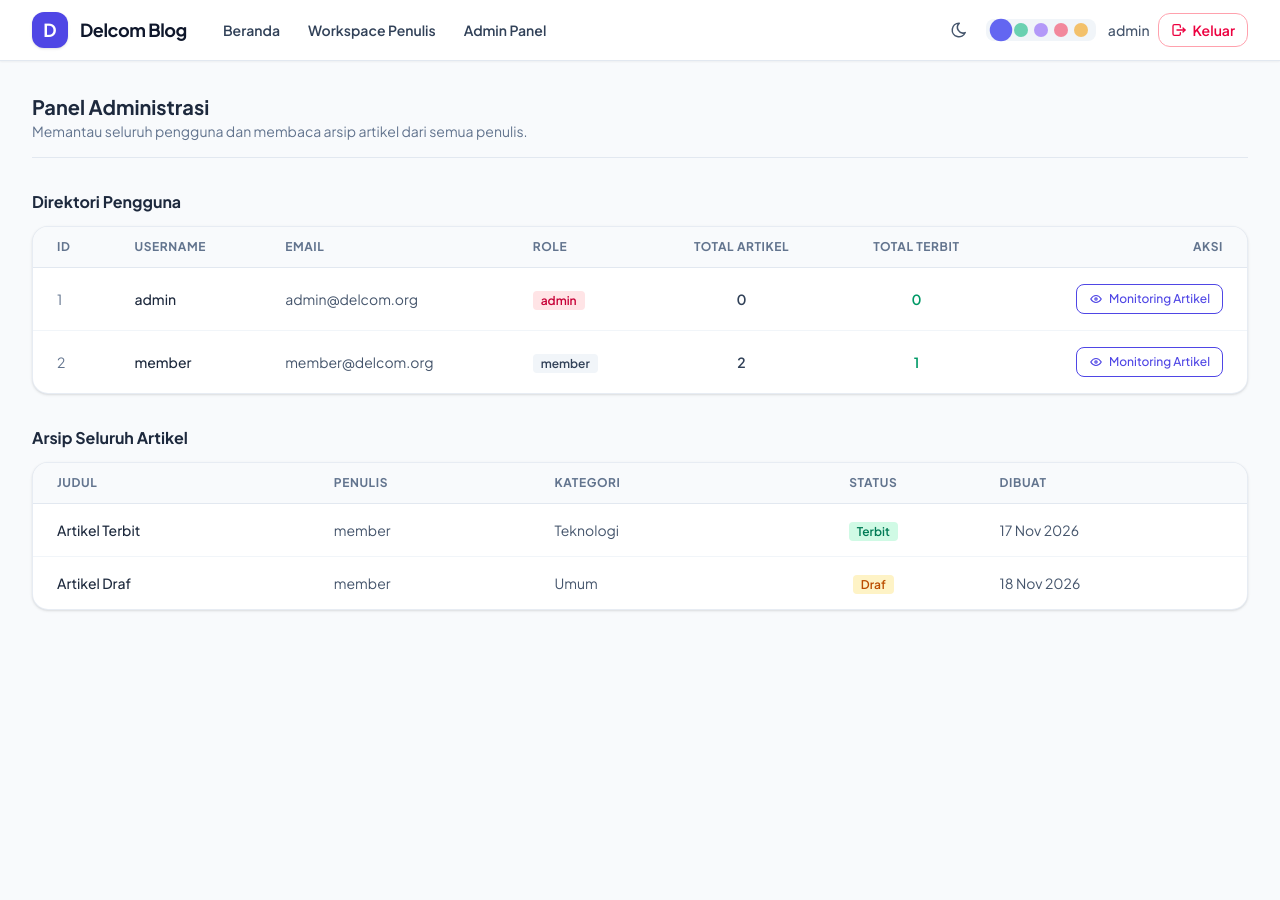
App › panel admin › menampilkan dialog error saat monitoring gagal
Step 1. Click the button with aria-label "Monitoring Artikel member" → (1150, 362), box [1076,347,1223,377]
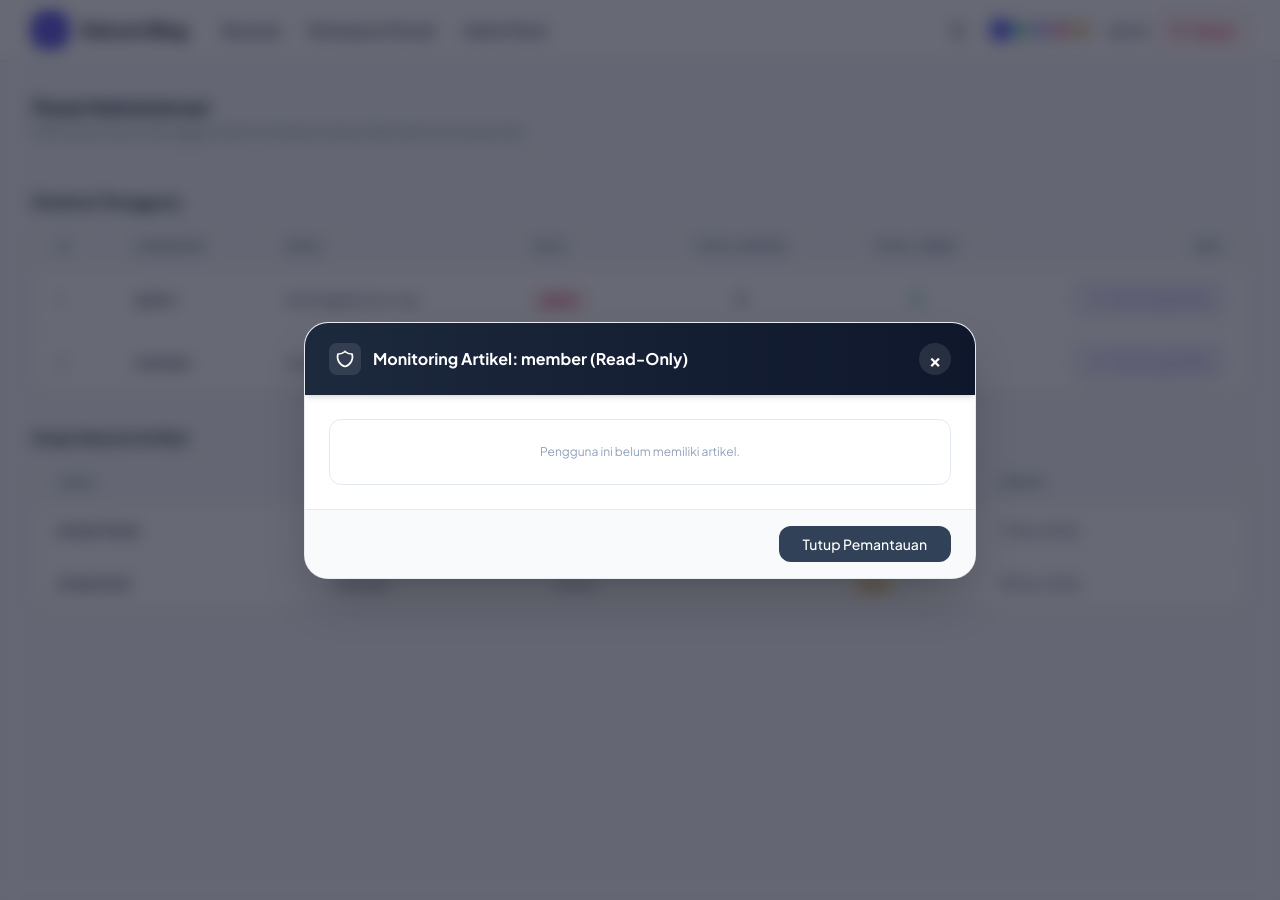
Check: the text "Pengguna ini belum memiliki artikel." is shown, box [540,444,740,458]
